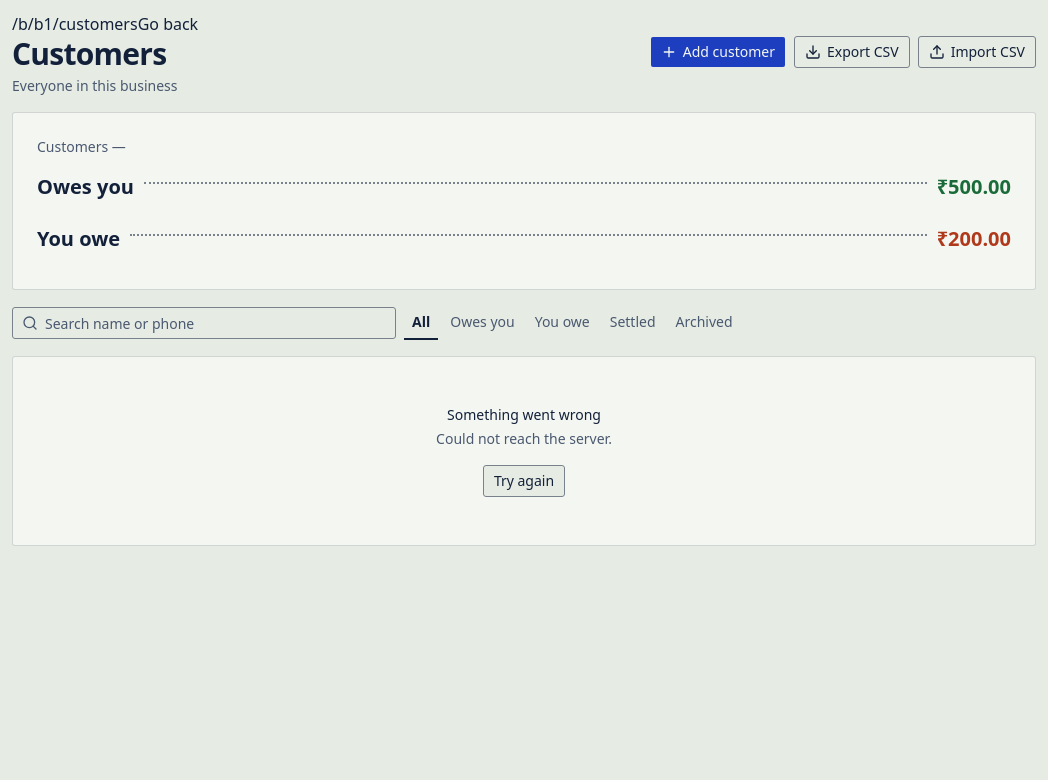
Test: S-28 customers list › recovers from a failed load with Try again
Expected: the message "Something went wrong Could not reach the server. Try again" is shown, [12,356,1036,546]
Expected: the text "Could not reach the server." is shown, [436,429,612,448]
Click the button "Try again". click: click(524, 481)
box: [483,465,565,497]
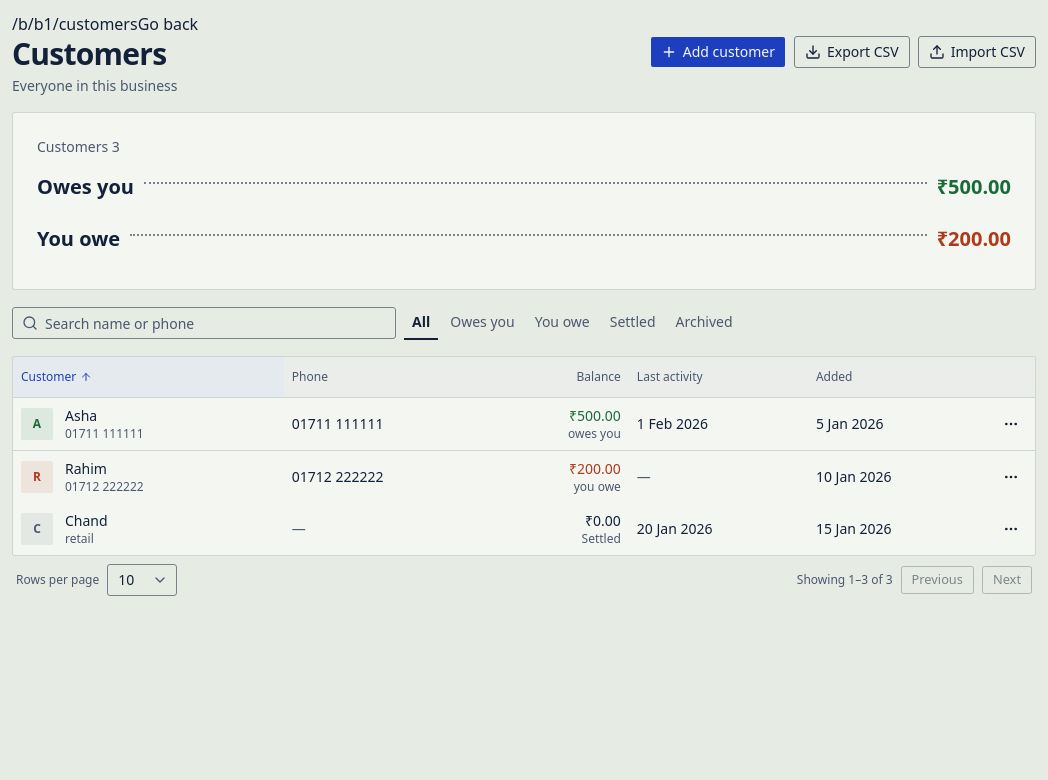
Expected: the column heading "Customer" is shown, [13,357,284,397]
